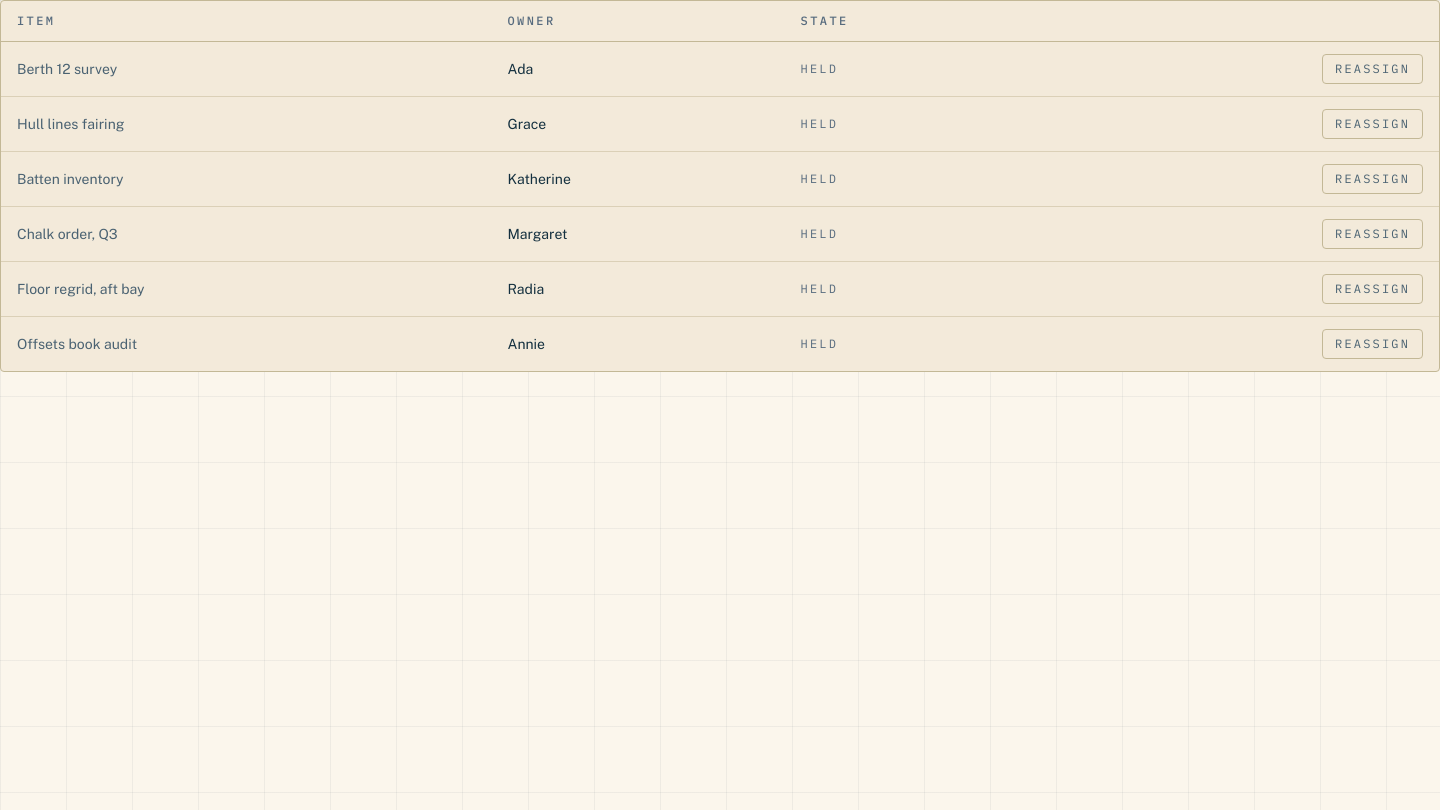
Test: the optimistic table › a rejected edit restores the committed owner and says so
Click the button "Reassign" in the row of "Berth 12 survey" at (1373, 69), box [1322, 54, 1423, 84]
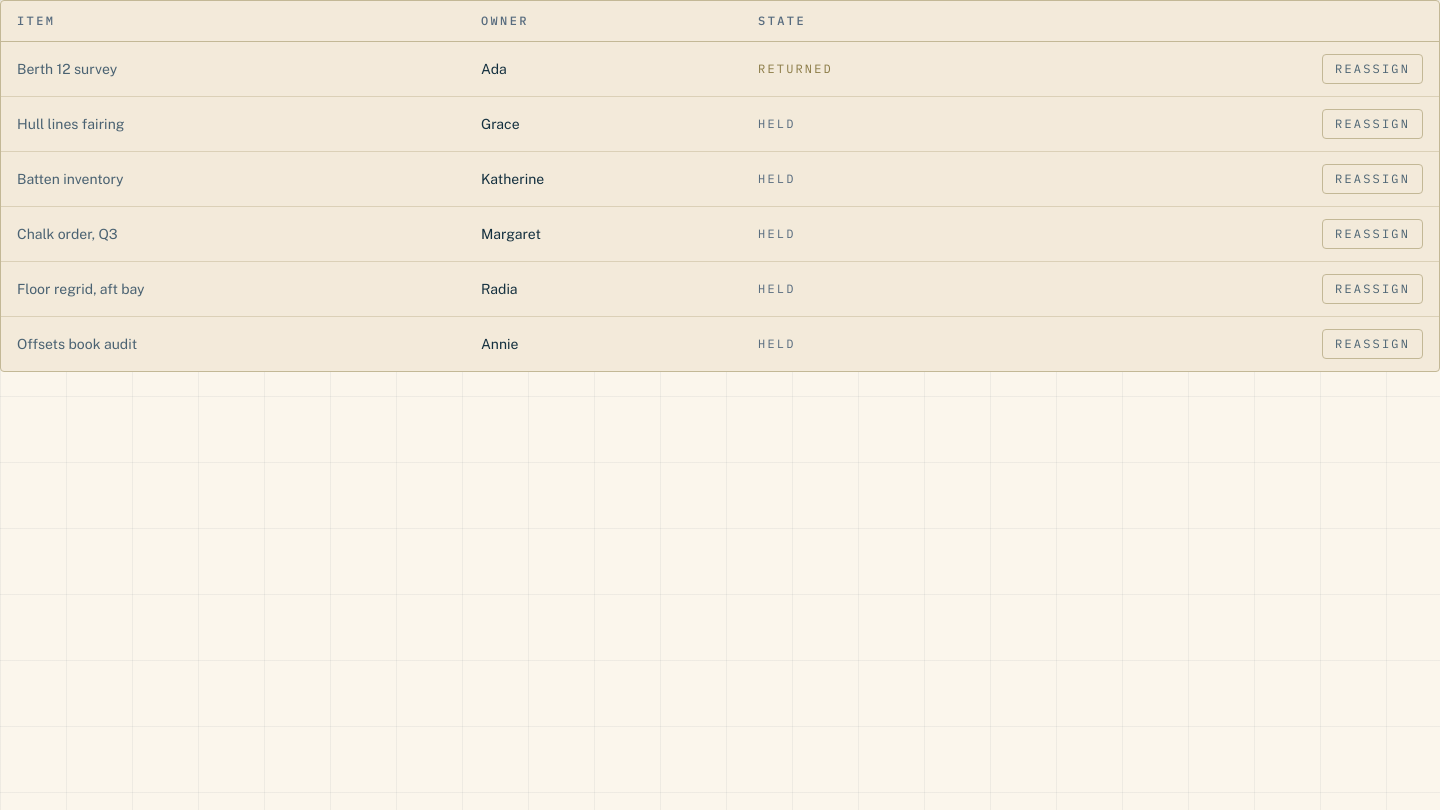
Check: the row "Berth 12 survey Ada Returned Reassign" is shown, box [1, 42, 1439, 96]
Check: the text "Returned" is shown, box [758, 61, 833, 76]
